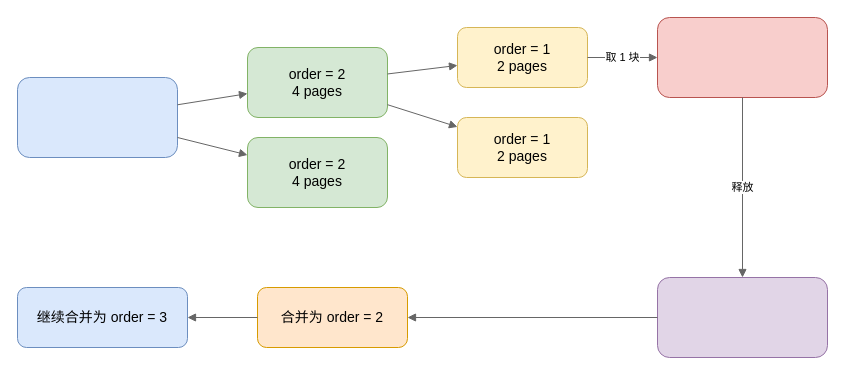
The diagram is 845 pixels wide and 375 high, and some of its shapes have lost their labels. The box of each missing label's shape, as (x1, y1, x2, y2) in pixels:
分配结果 申请 2 pages 返回 1 个 order=1 块: (656, 16, 828, 98)
初始空闲块 order = 3 8 pages: (16, 76, 178, 158)
释放后 若 buddy 空闲 则向上合并: (656, 276, 828, 358)
